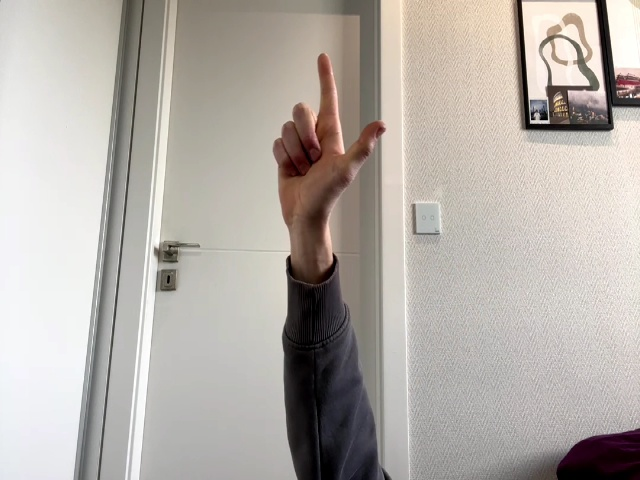L: (273, 53, 385, 250)
